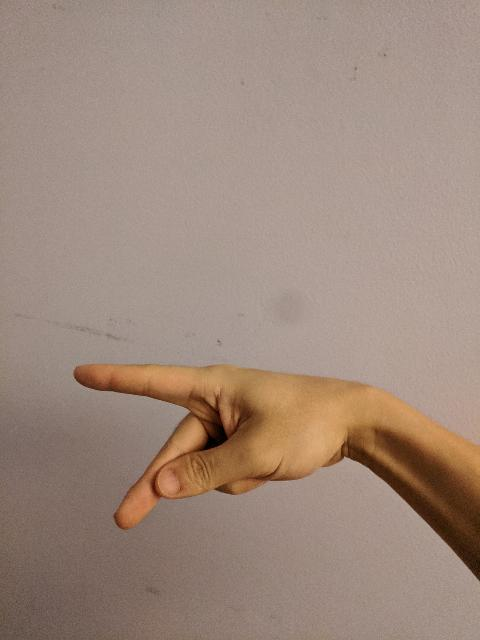P: (69, 358, 355, 532)
